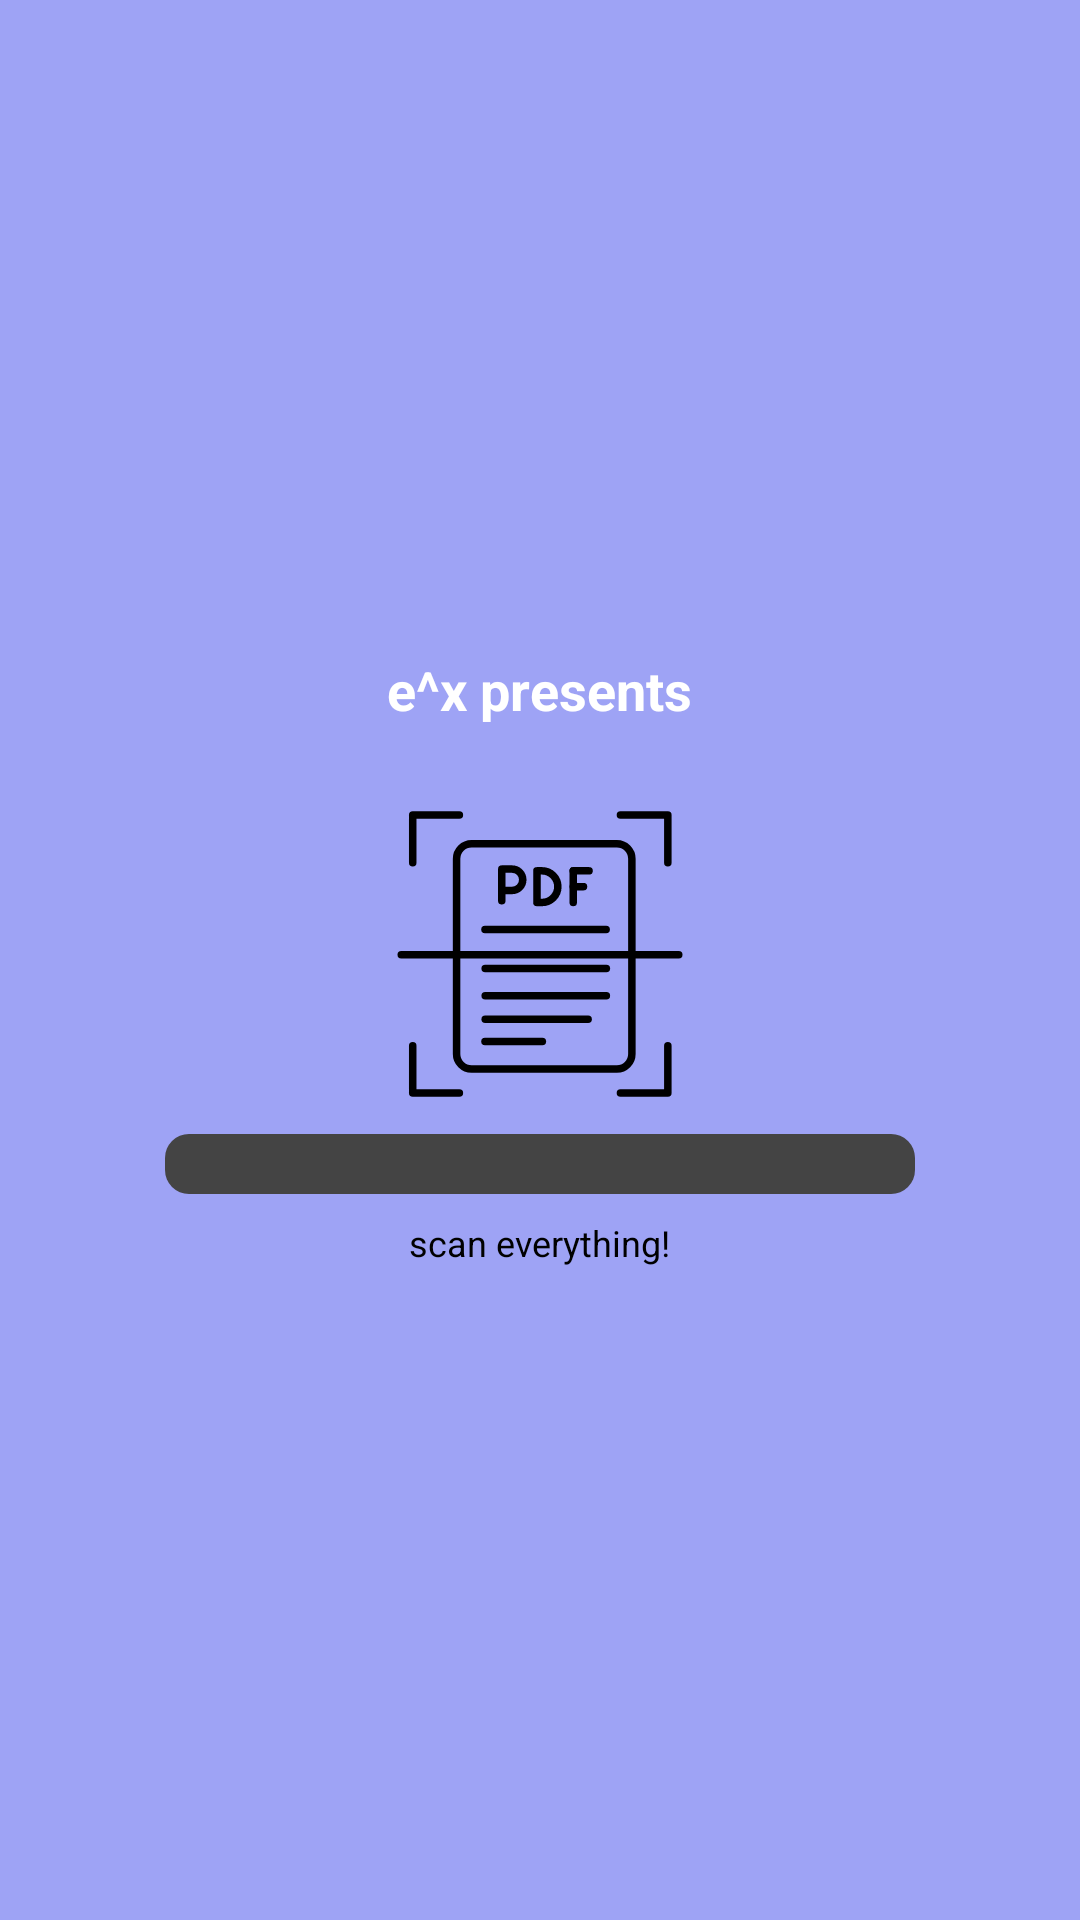

Named icons in this screenshot (1080*1920) and their centers, [x,y]:
document scanner: [540,954]
